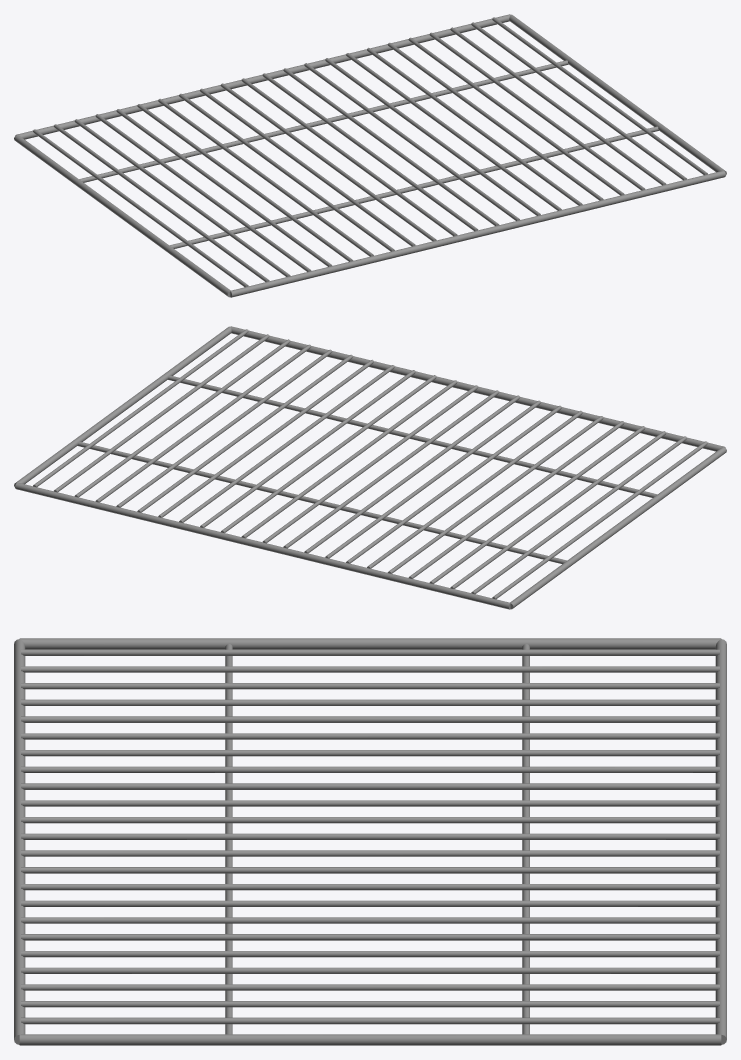
File: range_oven__oven_wire_rack.glb
The picture shows the model from 3 angles, top to bottom: view 1: azimuth 30°, elevation 25°; view 2: azimuth 150°, elevation 25°; view 3: azimuth 270°, elevation 25°; orthographic projection. The views are drawn at different scales.
Visible parts, largest first — view 1: rack; view 2: rack; view 3: rack.
Boxes of the visible parts, x1,y1,x2,y2 form: rack: (14, 14, 726, 297); rack: (14, 326, 726, 609); rack: (14, 638, 726, 1045).
Size of the model in its own units: 0.67 by 0.0103 by 0.504.
1 material, 1 textured.
